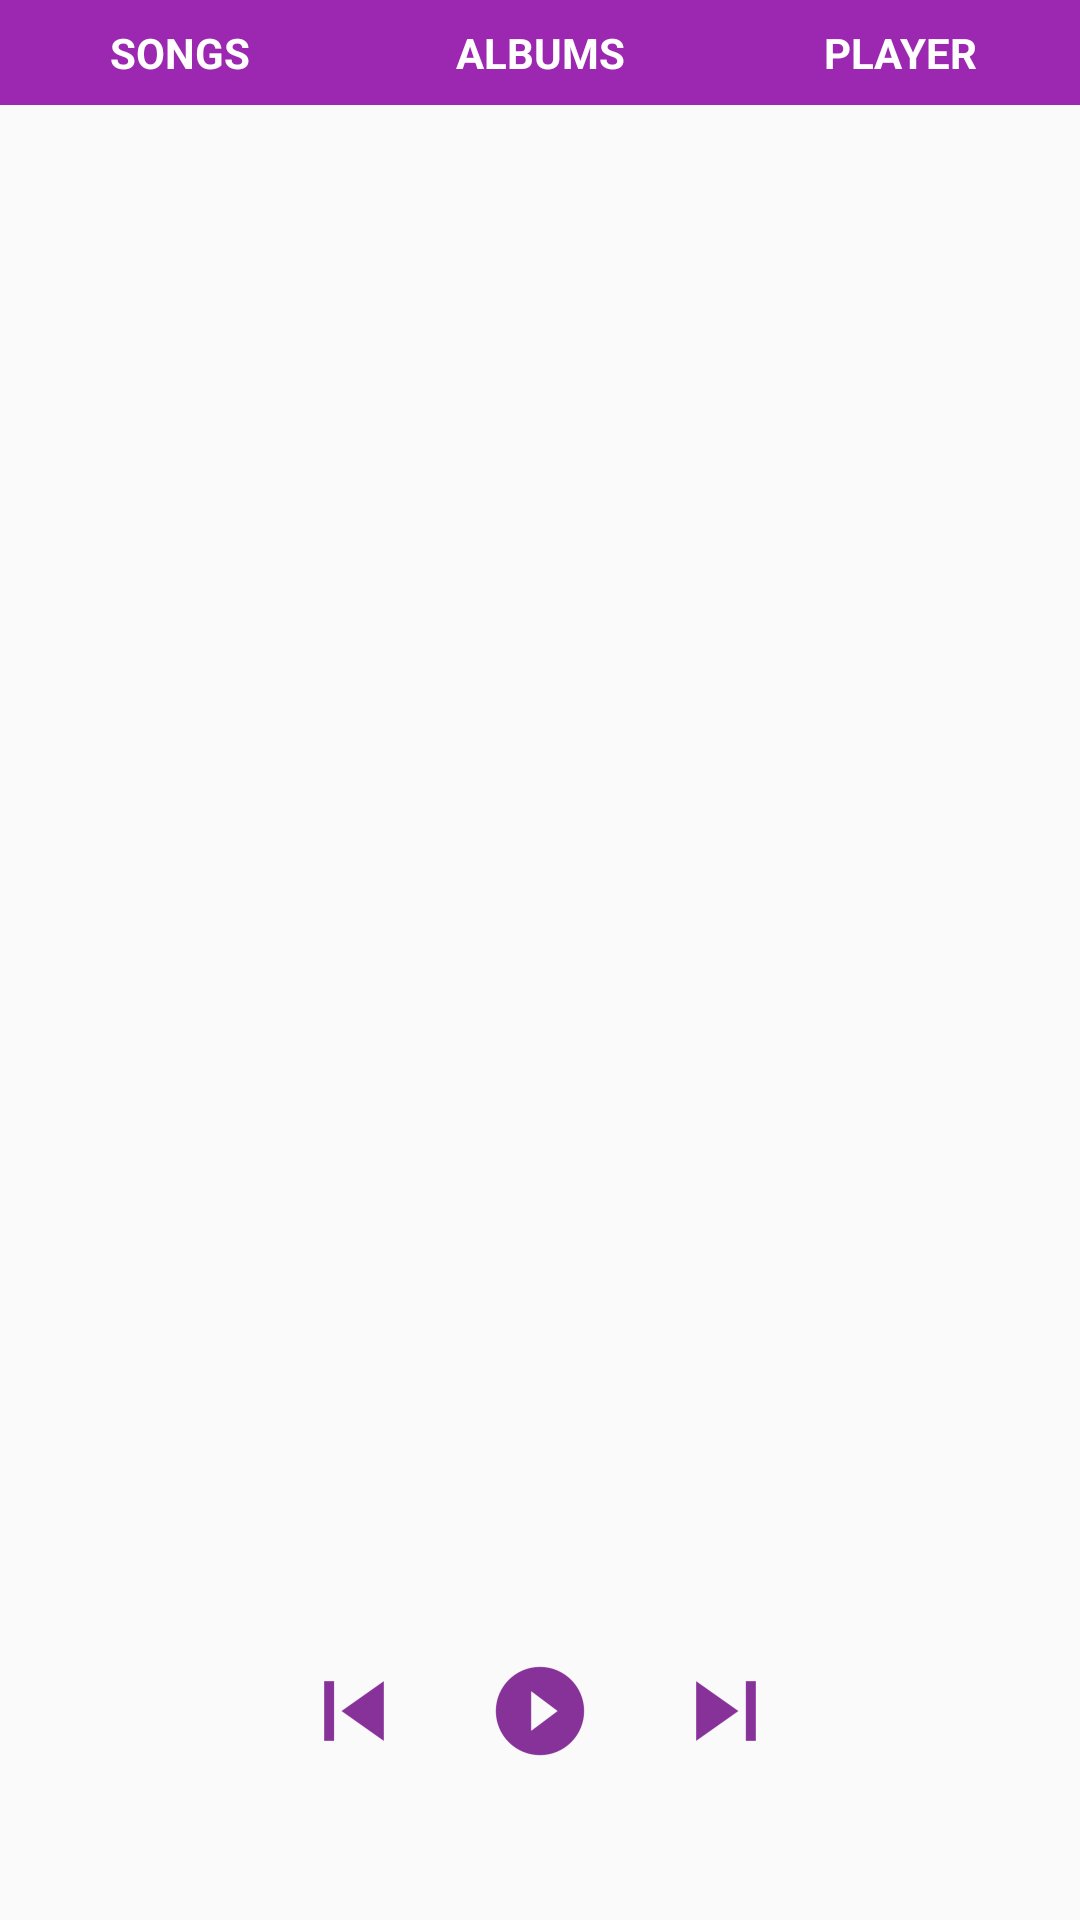

Named icons in this screenshot (1080px×1920px) and their centers, (x,y):
play/pause: (540,1711)
skip to next: (726,1711)
skip to previous song: (354,1711)
